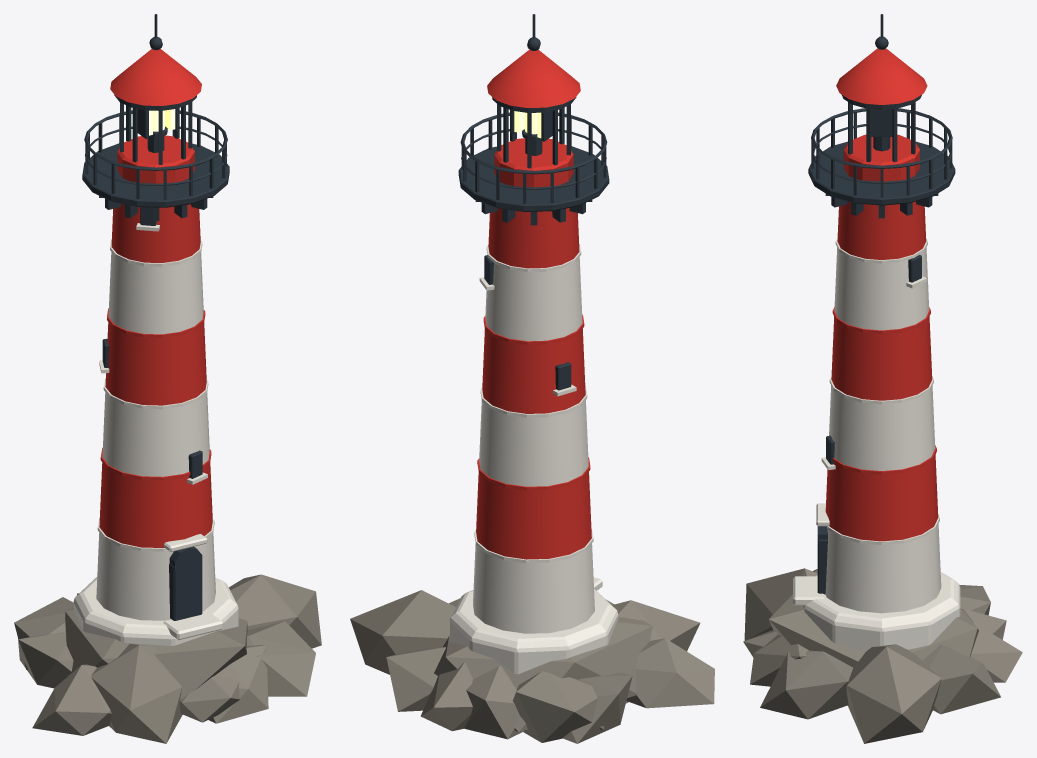
The model's file is lighthouse.glb.
3 views of the same model, side by side, from view 1: azimuth 30°, elevation 25°; view 2: azimuth 150°, elevation 25°; view 3: azimuth 270°, elevation 25° (orthographic). The views are drawn at different scales.
Visible parts, largest first — view 1: lighthouse, spin_light; view 2: lighthouse, spin_light; view 3: lighthouse, spin_light.
Boxes of the visible parts, left/top/right/bottom form: lighthouse: left=14, top=14, right=321, bottom=743; spin_light: left=137, top=108, right=179, bottom=138; lighthouse: left=350, top=14, right=714, bottom=743; spin_light: left=510, top=110, right=552, bottom=141; lighthouse: left=743, top=14, right=1022, bottom=743; spin_light: left=871, top=109, right=892, bottom=136.
Size of the model in its own units: 6.87 by 13.68 by 5.26.
